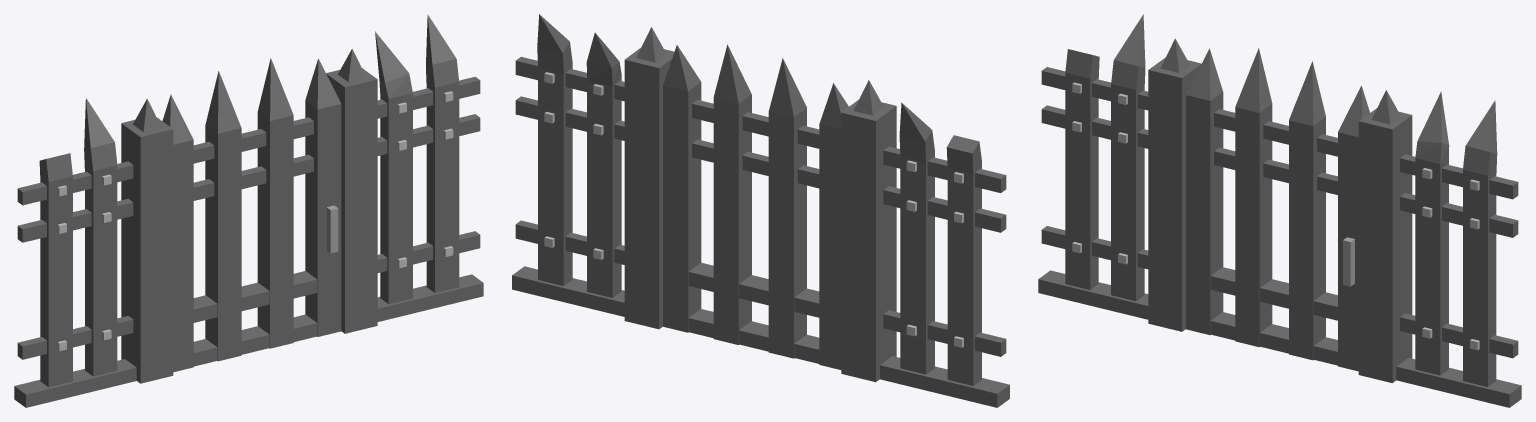
The model's file is Bars Door 01.FBX.
3 renders of one model, left to right at view 1: azimuth 30°, elevation 25°; view 2: azimuth 150°, elevation 25°; view 3: azimuth 330°, elevation 25°, orthographic. The views are drawn at different scales.
Visible parts, largest first — view 1: Bars Door Side 01, Bars Door 01; view 2: Bars Door Side 01, Bars Door 01; view 3: Bars Door Side 01, Bars Door 01.
Part boxes in pixels (x1,y1,x2,y2): Bars Door Side 01: [14, 14, 483, 407]; Bars Door 01: [162, 58, 341, 372]; Bars Door Side 01: [512, 14, 1009, 407]; Bars Door 01: [663, 44, 848, 369]; Bars Door Side 01: [1038, 14, 1521, 407]; Bars Door 01: [1186, 48, 1369, 371].
Bounding box in the file's own units: 400 × 234 × 38.76.
